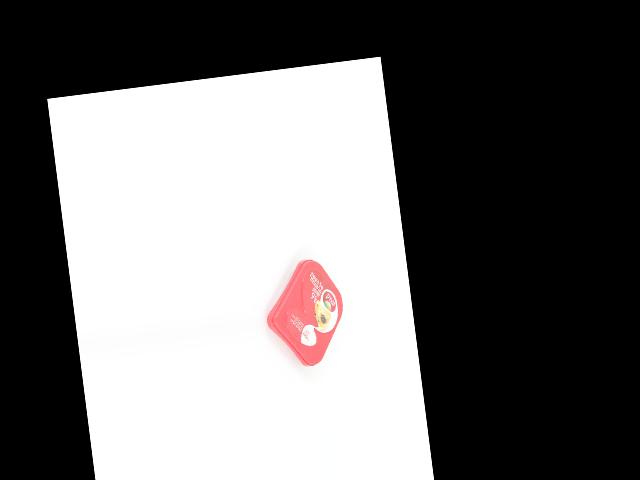cheese: (259, 255, 350, 371)
